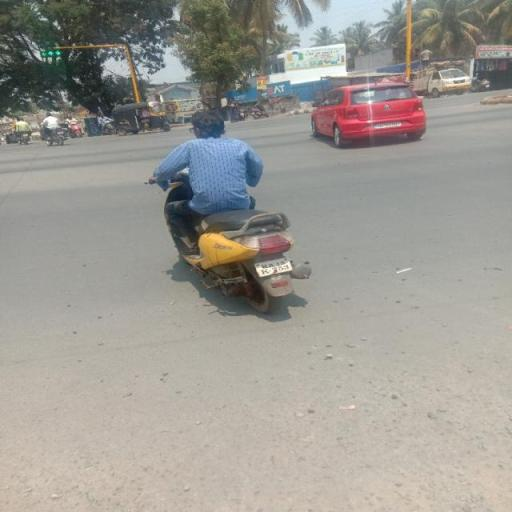bike: (144, 106, 316, 322)
numberplate: (252, 254, 292, 279)
withouthelmet: (194, 112, 224, 136)
